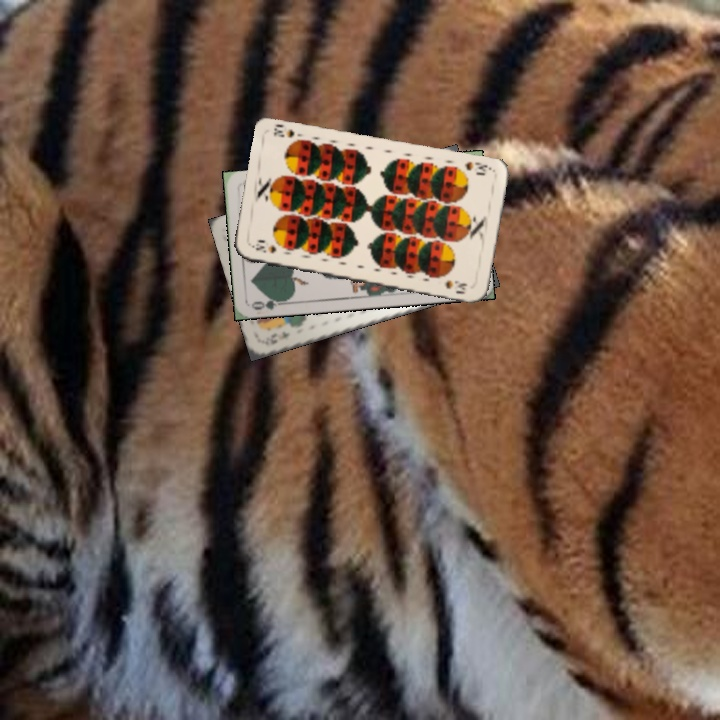EK: (263, 327, 292, 345)
GO: (249, 293, 289, 312)
S10: (461, 157, 494, 178), (248, 241, 279, 256)
